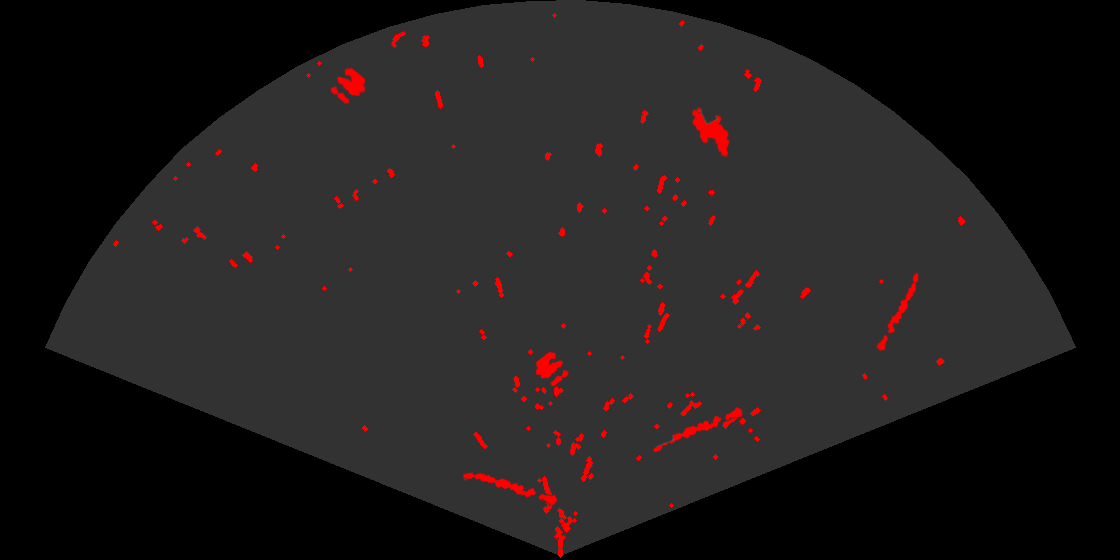AUV: (690, 106, 732, 159)
ball: (329, 66, 367, 106), (534, 350, 570, 388)
chain: (651, 405, 745, 454), (873, 271, 920, 360), (461, 471, 560, 507)
